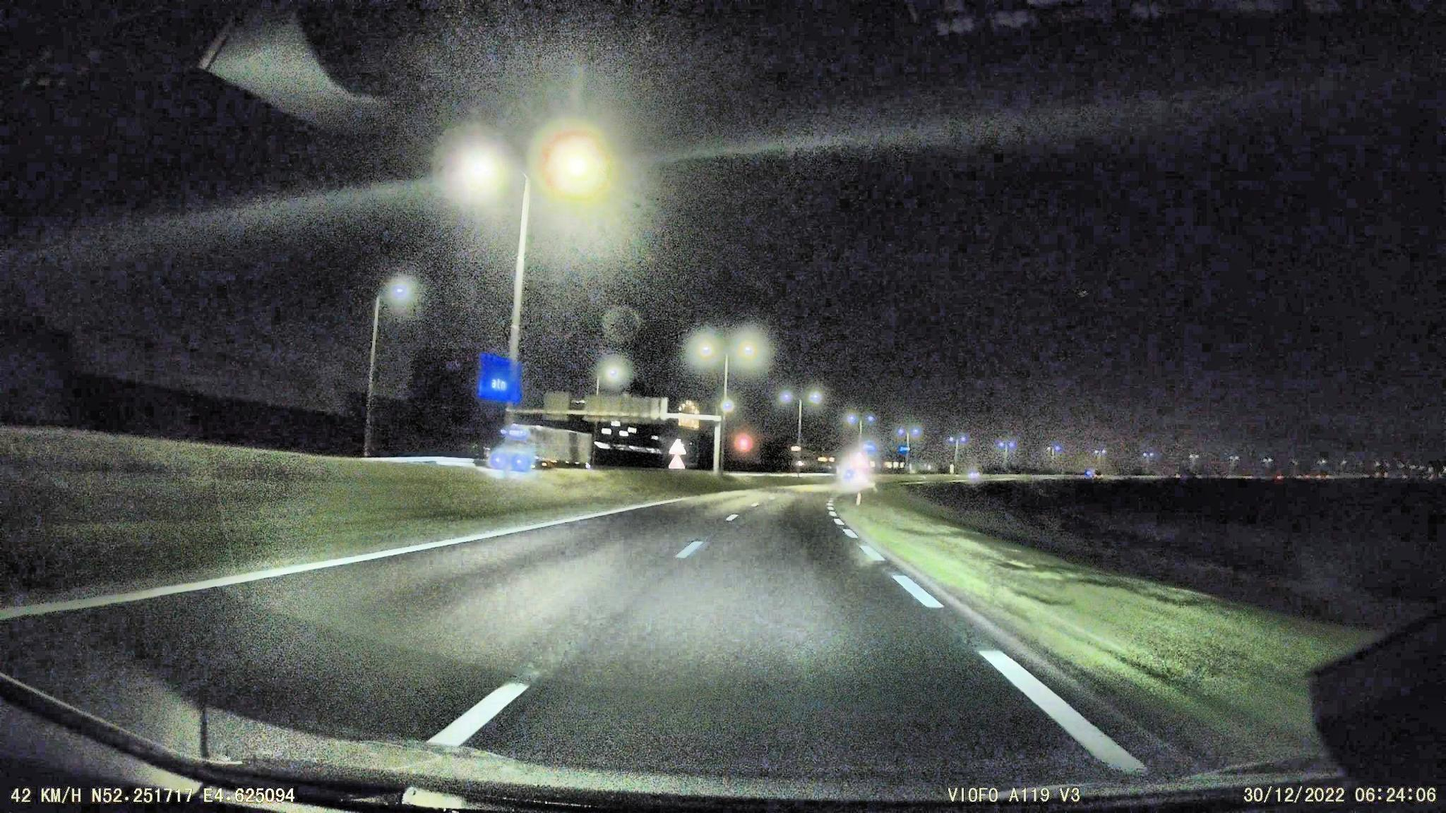Roads: (0, 489, 1119, 806)
